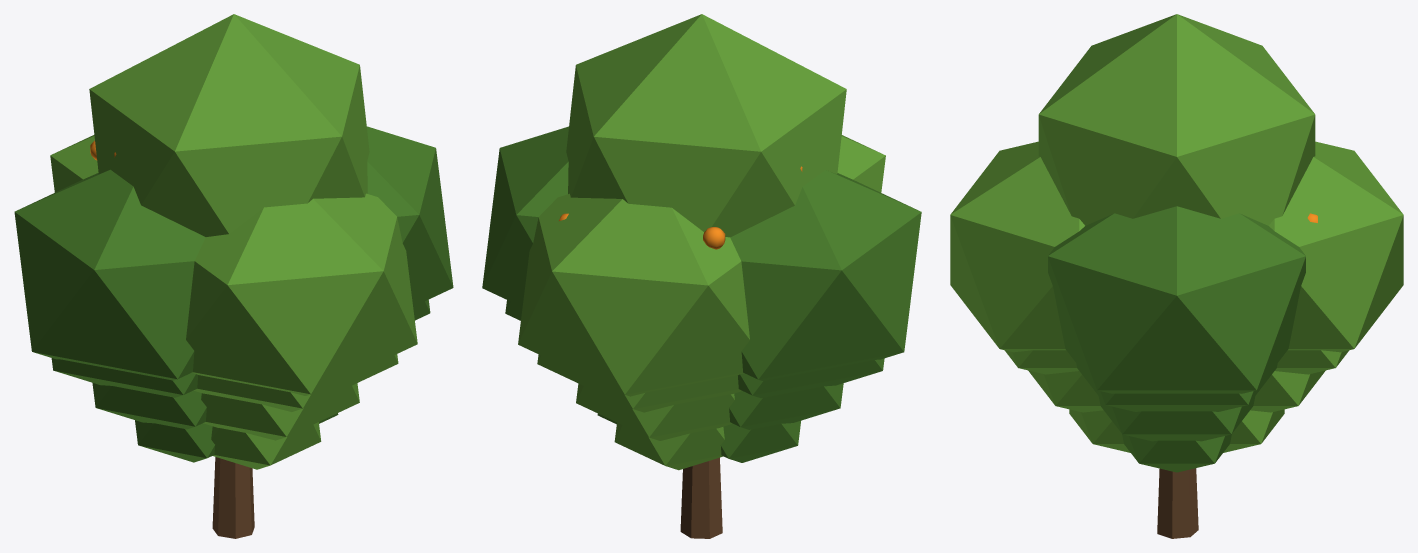
The model's file is Crop_Fruit_Tangerine.fbx.
3 views of the same model, side by side, from view 1: azimuth 30°, elevation 25°; view 2: azimuth 150°, elevation 25°; view 3: azimuth 270°, elevation 25° (orthographic).
Visible parts, largest first — view 1: Crop_Fruit_Tangerine__S4, Crop_Fruit_Tangerine__S2, Crop_Fruit_Tangerine__S3, Crop_Fruit_Tangerine__S1; view 2: Crop_Fruit_Tangerine__S4, Crop_Fruit_Tangerine__S2, Crop_Fruit_Tangerine__S3, Crop_Fruit_Tangerine__S1; view 3: Crop_Fruit_Tangerine__S4, Crop_Fruit_Tangerine__S2, Crop_Fruit_Tangerine__S3, Crop_Fruit_Tangerine__S1.
Part boxes in pixels (x1,y1,x2,y2): Crop_Fruit_Tangerine__S4: (14, 14, 453, 538); Crop_Fruit_Tangerine__S2: (92, 383, 359, 440); Crop_Fruit_Tangerine__S3: (51, 299, 430, 411); Crop_Fruit_Tangerine__S1: (135, 413, 338, 469); Crop_Fruit_Tangerine__S4: (482, 14, 921, 538); Crop_Fruit_Tangerine__S2: (576, 383, 843, 440); Crop_Fruit_Tangerine__S3: (505, 300, 884, 412); Crop_Fruit_Tangerine__S1: (597, 413, 800, 470); Crop_Fruit_Tangerine__S4: (950, 14, 1403, 538); Crop_Fruit_Tangerine__S2: (1028, 370, 1325, 441); Crop_Fruit_Tangerine__S3: (1005, 350, 1348, 411); Crop_Fruit_Tangerine__S1: (1069, 409, 1284, 472).
Bounding box in the file's own units: 0.6887 × 0.84 × 0.6691.
